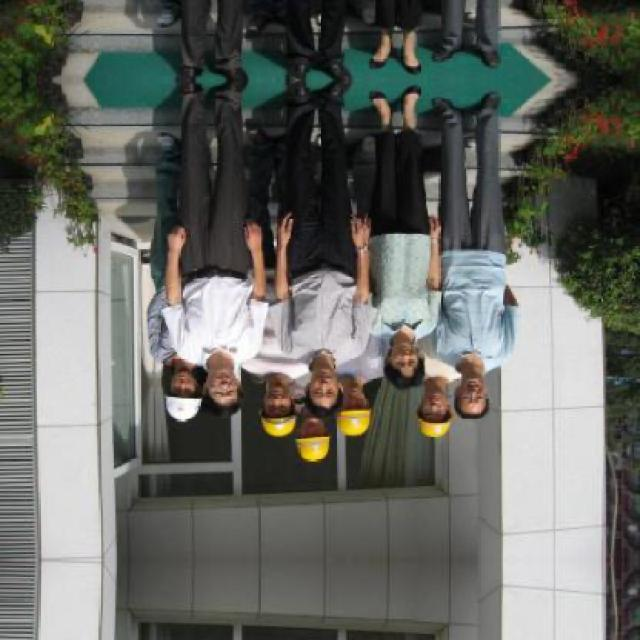con casco: (428, 388, 488, 470), (232, 378, 310, 441), (291, 414, 367, 472), (147, 382, 200, 432), (324, 388, 355, 447)
sin casco: (434, 342, 501, 434), (366, 339, 430, 401), (299, 354, 341, 424), (179, 353, 226, 413)
